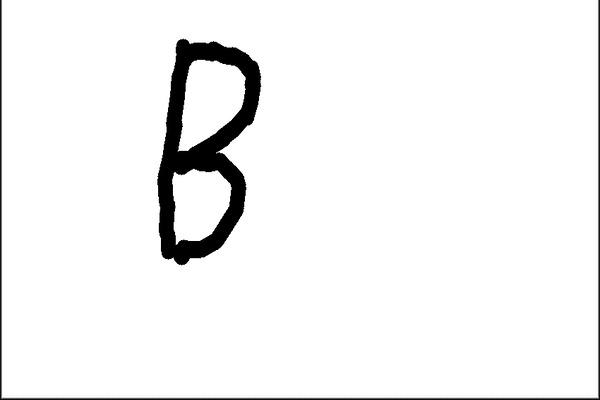B: (151, 29, 270, 271)
